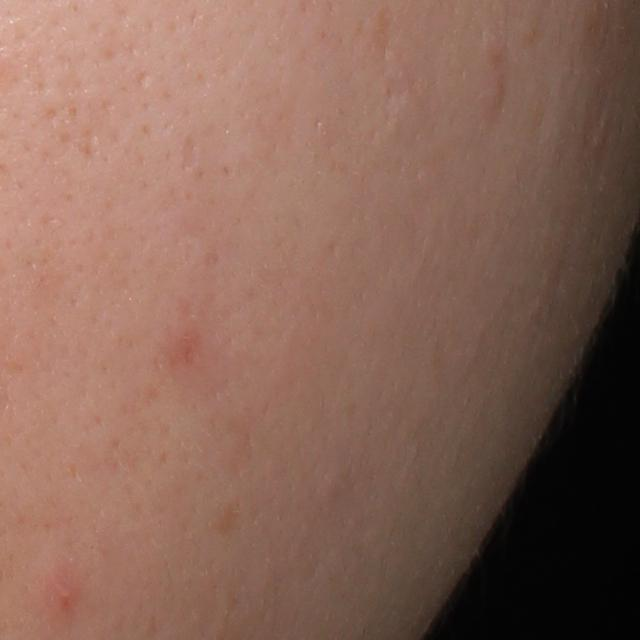atrophic_scar: (179, 129, 202, 173)
papule: (51, 583, 77, 610)
